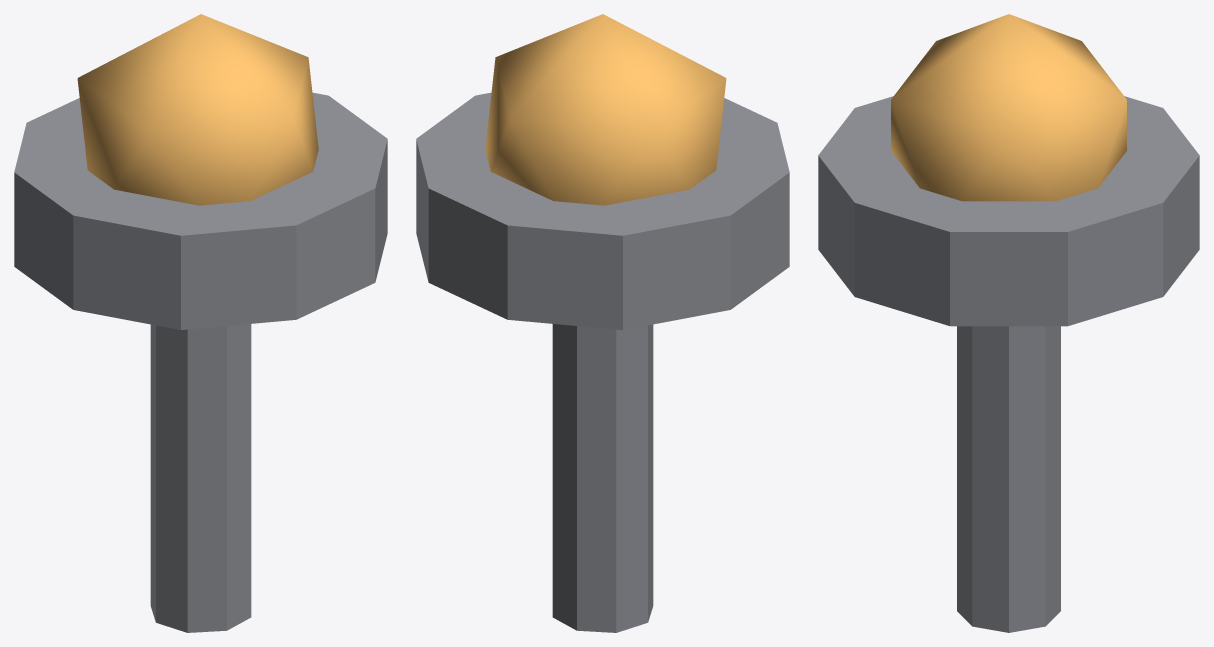
The model's file is brazier.glb.
3 renders of one model, left to right at view 1: azimuth 30°, elevation 25°; view 2: azimuth 150°, elevation 25°; view 3: azimuth 270°, elevation 25°, orthographic.
Parts seen in each view (by area): view 1: brazier; view 2: brazier; view 3: brazier.
Part boxes in pixels (<box>): brazier: <box>14,14,387,632</box>; brazier: <box>416,14,789,632</box>; brazier: <box>818,14,1199,632</box>.
Size of the model in its own units: 0.4185 by 0.76 by 0.44.
